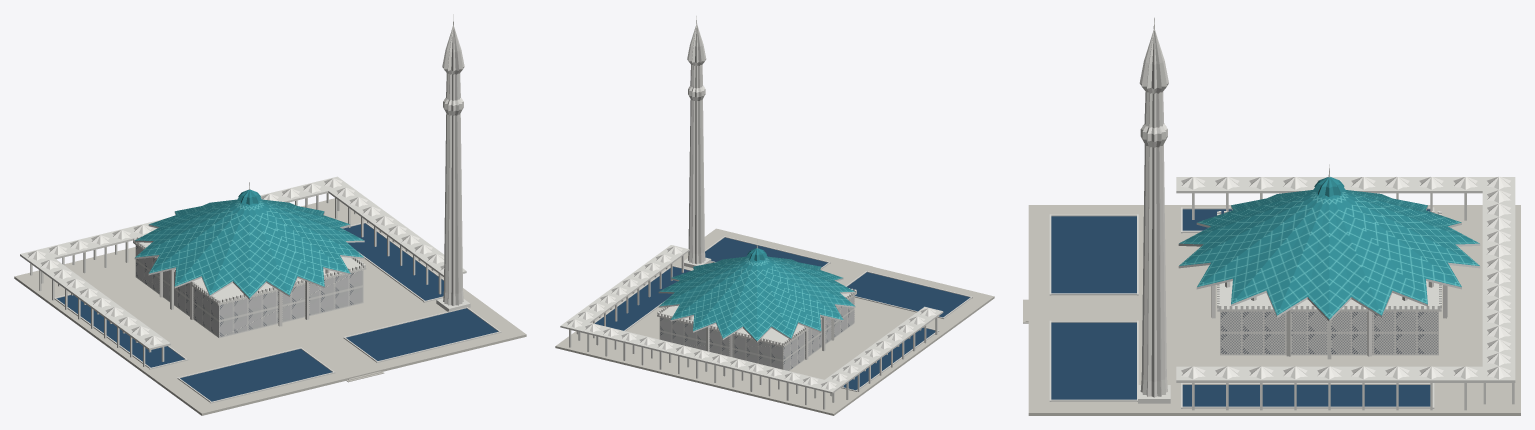
Rendered from masjid-negara.glb.
3 renders of one model, left to right at view 1: azimuth 30°, elevation 25°; view 2: azimuth 150°, elevation 25°; view 3: azimuth 270°, elevation 25°, orthographic. The views are drawn at different scales.
Visible parts, largest first — view 1: negara_plaza, negara_white, negara_roof, negara_water, negara_grille, negara_under; view 2: negara_white, negara_plaza, negara_roof, negara_water, negara_grille, negara_under; view 3: negara_white, negara_plaza, negara_roof, negara_water, negara_grille, negara_under.
Part boxes in pixels (box(x1,y1,x2,y2)): negara_plaza: box(14, 198, 526, 415); negara_white: box(20, 14, 501, 403); negara_roof: box(135, 189, 363, 298); negara_water: box(56, 223, 498, 401); negara_grille: box(135, 245, 363, 338); negara_under: box(134, 212, 364, 299); negara_white: box(560, 16, 972, 409); negara_plaza: box(555, 228, 994, 415); negara_roof: box(659, 248, 854, 340); negara_water: box(595, 237, 969, 390); negara_grille: box(659, 296, 854, 370); negara_under: box(658, 267, 855, 342); negara_white: box(1049, 17, 1515, 410); negara_plaza: box(1023, 205, 1520, 415); negara_roof: box(1179, 177, 1479, 319); negara_water: box(1051, 209, 1430, 406); negara_grille: box(1220, 299, 1438, 355); negara_under: box(1178, 206, 1480, 321).
Size of the model in its own units: 90 by 77.8 by 91.
Materials: 6 (2 with a texture image).
